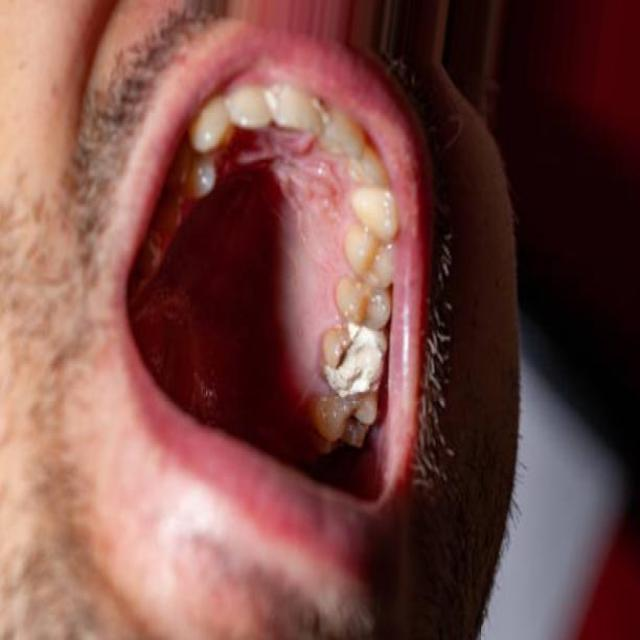caries: (324, 314, 388, 408)
